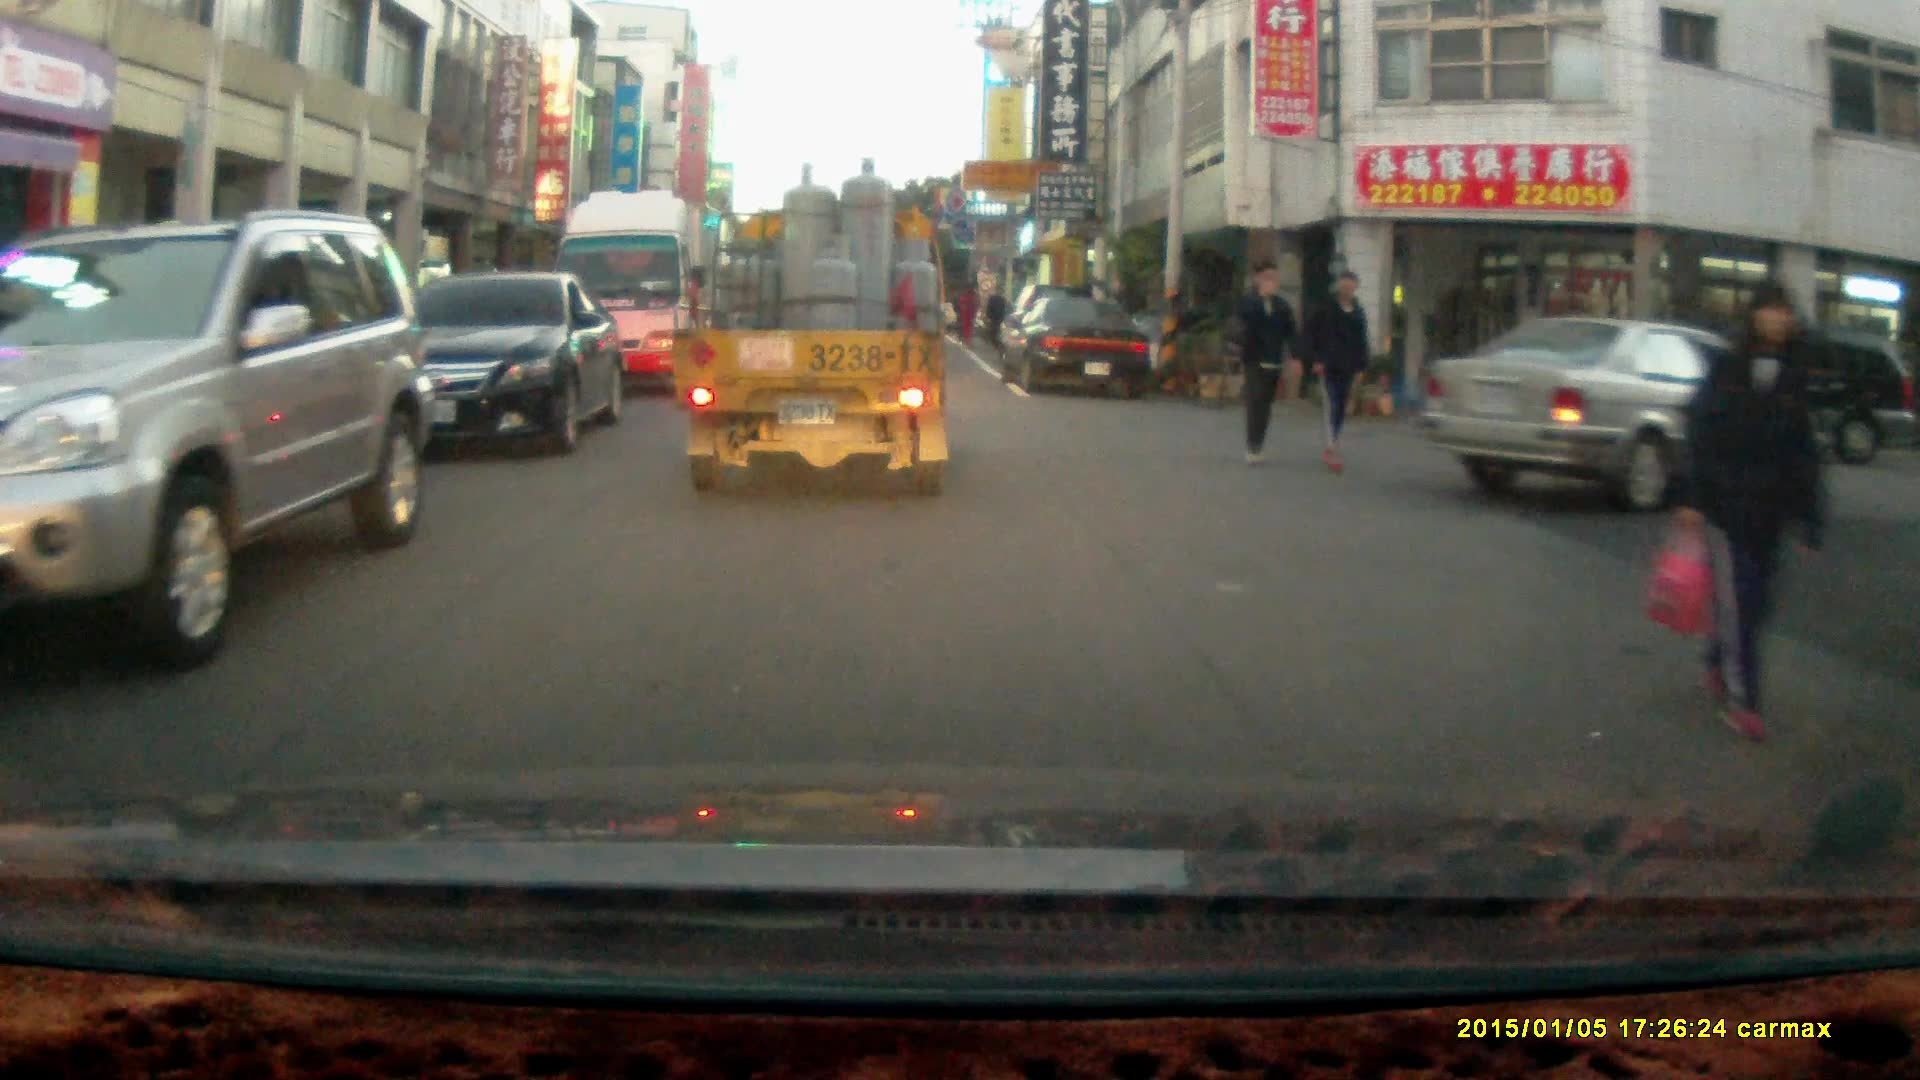pedestrian: (1679, 280, 1831, 743), (1304, 265, 1372, 476), (1233, 255, 1292, 464), (981, 280, 1009, 350), (954, 281, 979, 349)
vehicle: (1, 210, 433, 671), (673, 159, 954, 505), (1419, 314, 1827, 519), (341, 275, 627, 465), (549, 186, 729, 401), (993, 292, 1154, 400)
